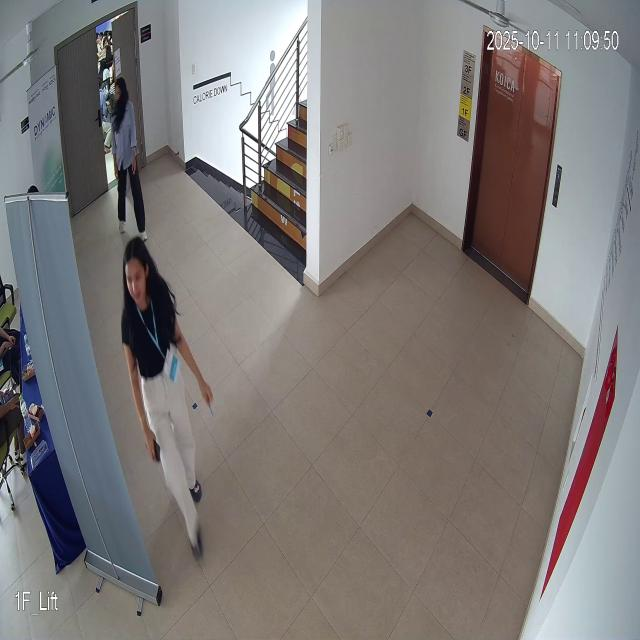face: (120, 231, 154, 322)
